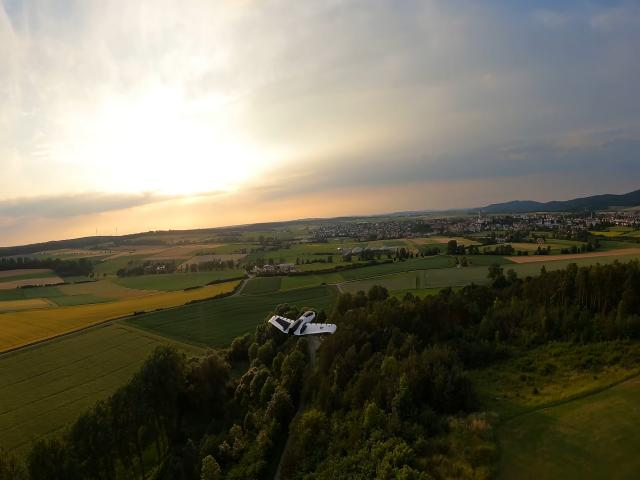plane: (266, 308, 338, 341)
